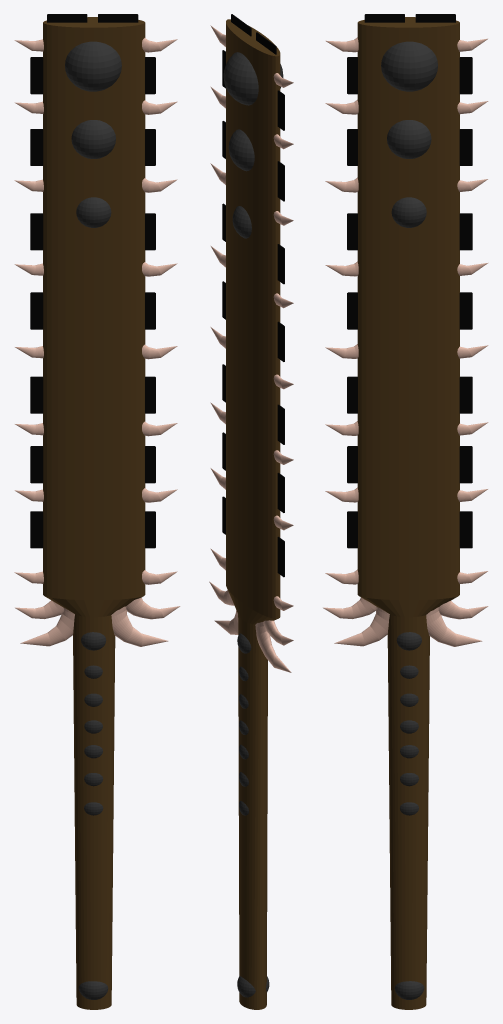
Rendered from Macuahuitl_TwoHanded_LIII.fbx.
3 views of the same model, side by side, from view 1: azimuth 90°, elevation 25°; view 2: azimuth 210°, elevation 25°; view 3: azimuth 270°, elevation 25° (orthographic).
Visible parts, largest first — view 1: Macuahuitl_Long_LIII; view 2: Macuahuitl_Long_LIII; view 3: Macuahuitl_Long_LIII.
Part boxes in pixels (bbox=[...]): Macuahuitl_Long_LIII: bbox=[14, 14, 180, 1009]; Macuahuitl_Long_LIII: bbox=[209, 14, 293, 1009]; Macuahuitl_Long_LIII: bbox=[323, 14, 488, 1009].
Size of the model in its own units: 4.44 by 79.51 by 12.09.
